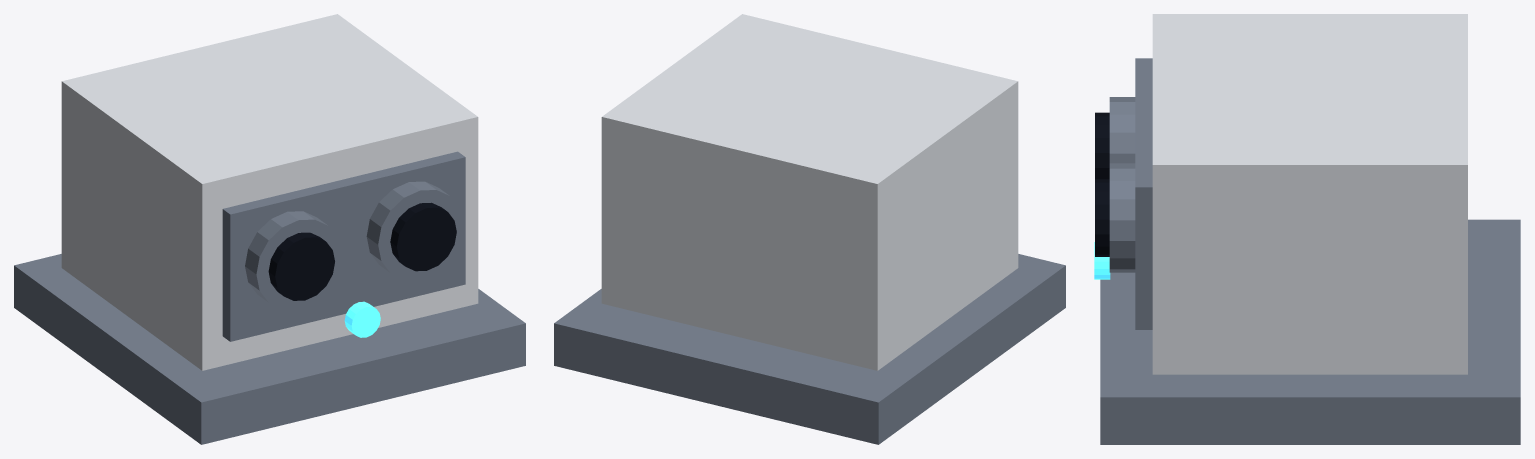
The model's file is Inst_Camera.glb.
The picture shows the model from 3 angles, left to right: view 1: azimuth 30°, elevation 25°; view 2: azimuth 150°, elevation 25°; view 3: azimuth 270°, elevation 25°; orthographic projection. The views are drawn at different scales.
Visible parts, largest first — view 1: Inst_Camera; view 2: Inst_Camera; view 3: Inst_Camera.
Boxes of the visible parts, x1,y1,x2,y2 form: Inst_Camera: [14, 14, 525, 444]; Inst_Camera: [554, 14, 1065, 444]; Inst_Camera: [1094, 14, 1520, 444].
Bounding box in the file's own units: 0.4 × 0.28 × 0.4055.
